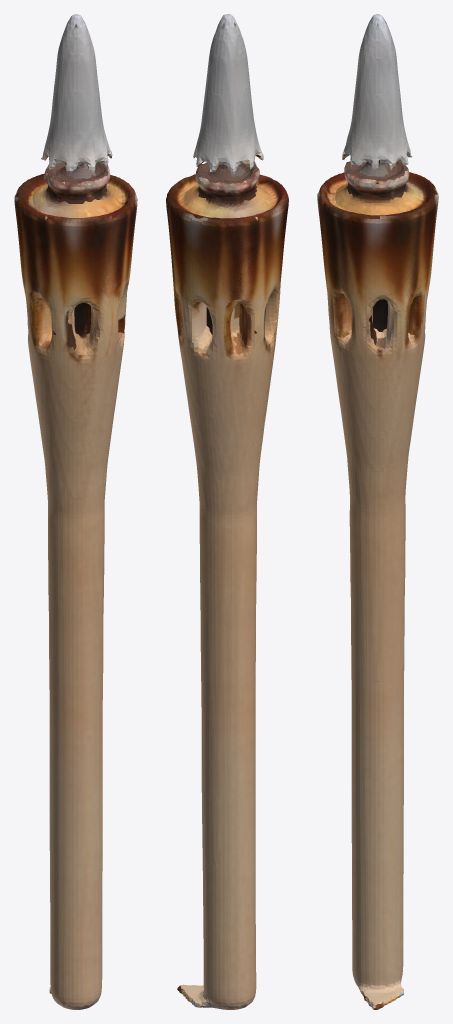
File: mdl_torch_001.glb
3 renders of one model, left to right at view 1: azimuth 90°, elevation 25°; view 2: azimuth 150°, elevation 25°; view 3: azimuth 270°, elevation 25°, orthographic.
Visible parts, largest first — view 1: tmp3cezn_ys.ply; view 2: tmp3cezn_ys.ply; view 3: tmp3cezn_ys.ply.
Part boxes in pixels (<box>): tmp3cezn_ys.ply: <box>14,14,137,1009</box>; tmp3cezn_ys.ply: <box>166,14,288,1009</box>; tmp3cezn_ys.ply: <box>317,14,438,1009</box>.
Bounding box in the file's own units: 0.1102 × 0.9883 × 0.1114.
1 material, 1 textured.
